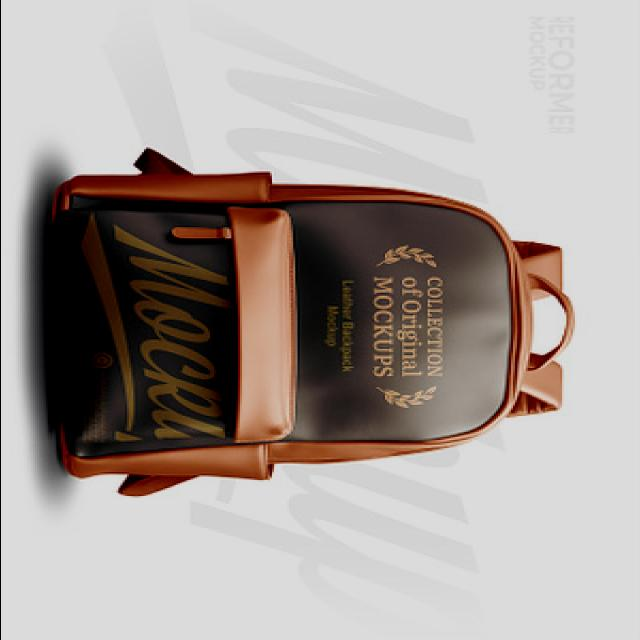backpack: (50, 148, 577, 497)
